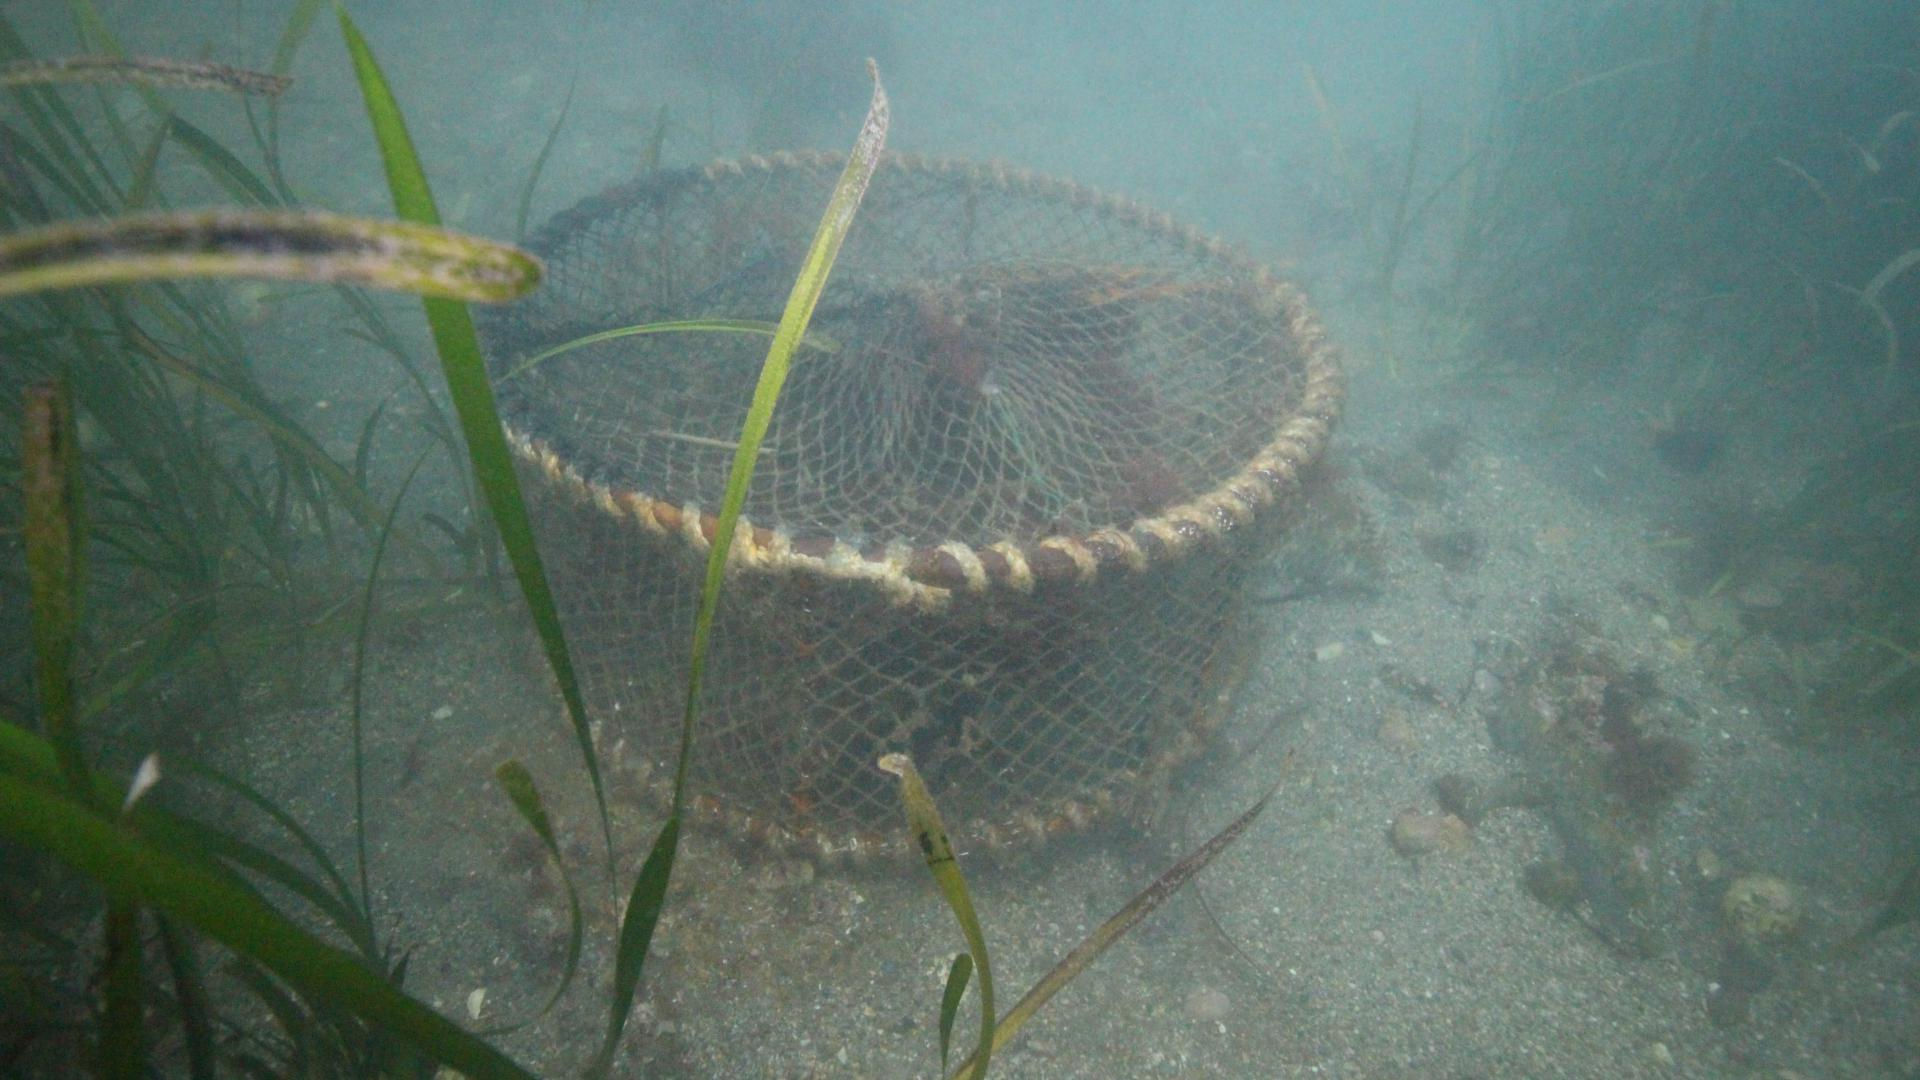circular fish trap: (469, 145, 1344, 874)
